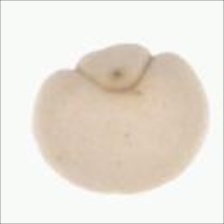L5: (72, 41, 157, 95), (78, 172, 174, 199)
L6: (30, 42, 211, 197)
